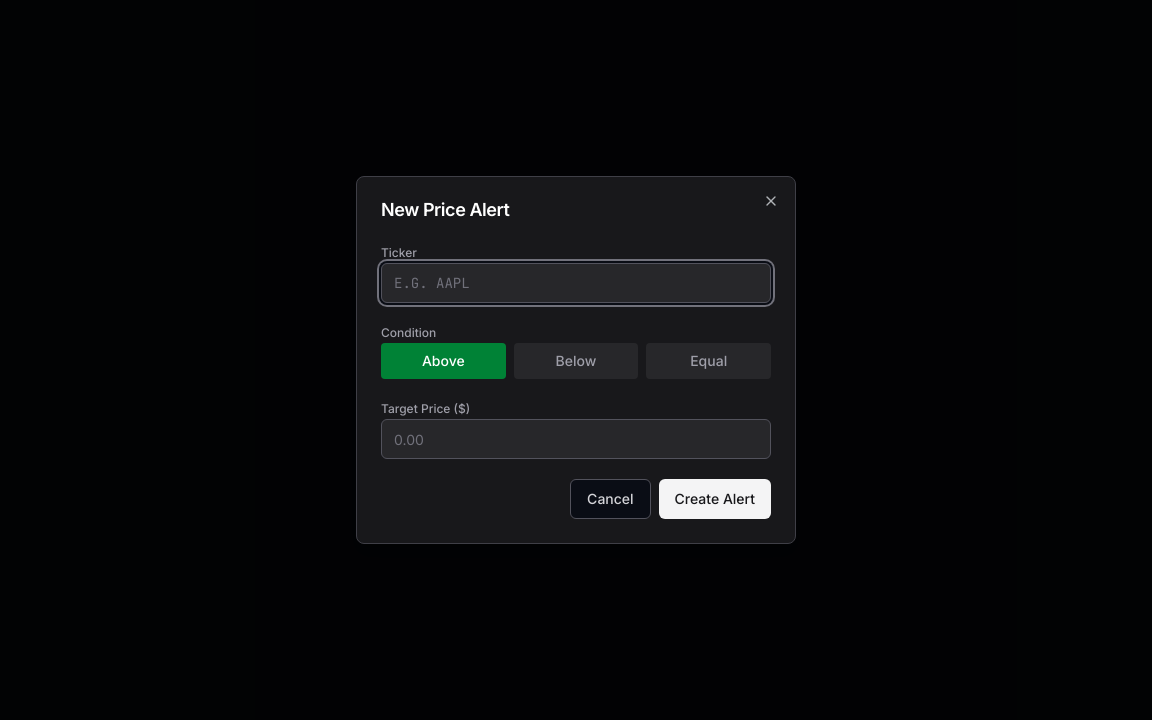
it: AlertCreateDialog › shows API error message on failure
In the field with placeholder "e.g. AAPL": [576, 283] box [381,263,771,303], type "AAPL"
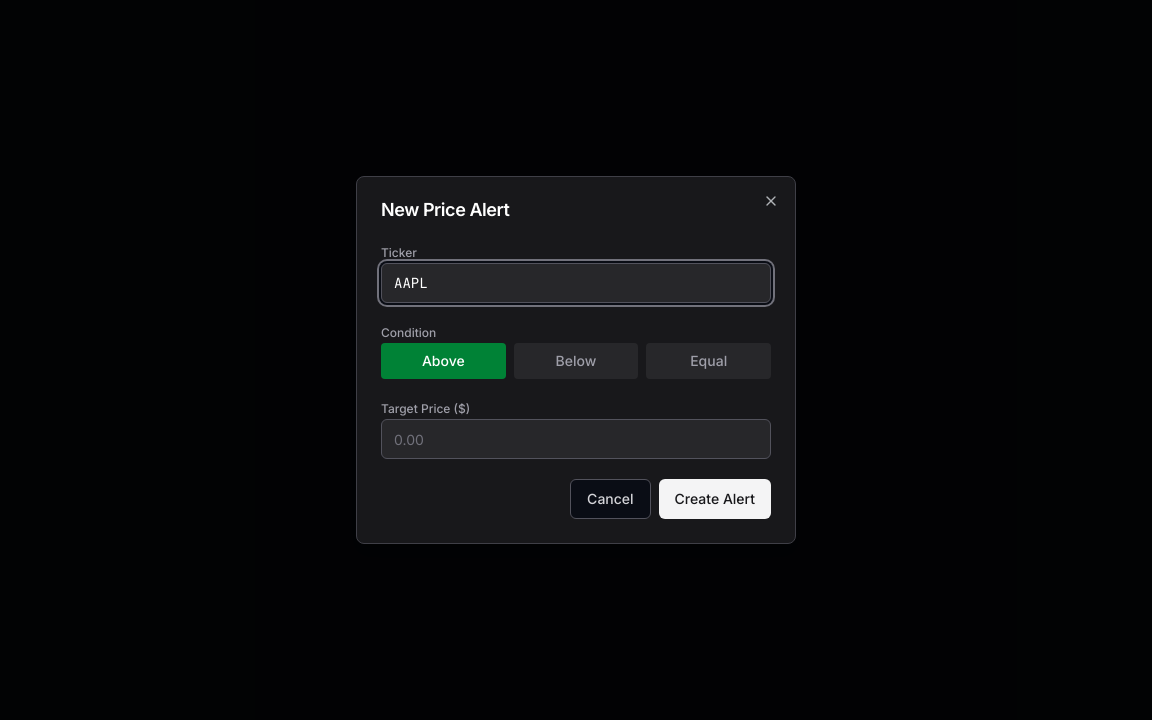
In the number field with placeholder "0.00": [576, 439] box [381,419,771,459], type "100"
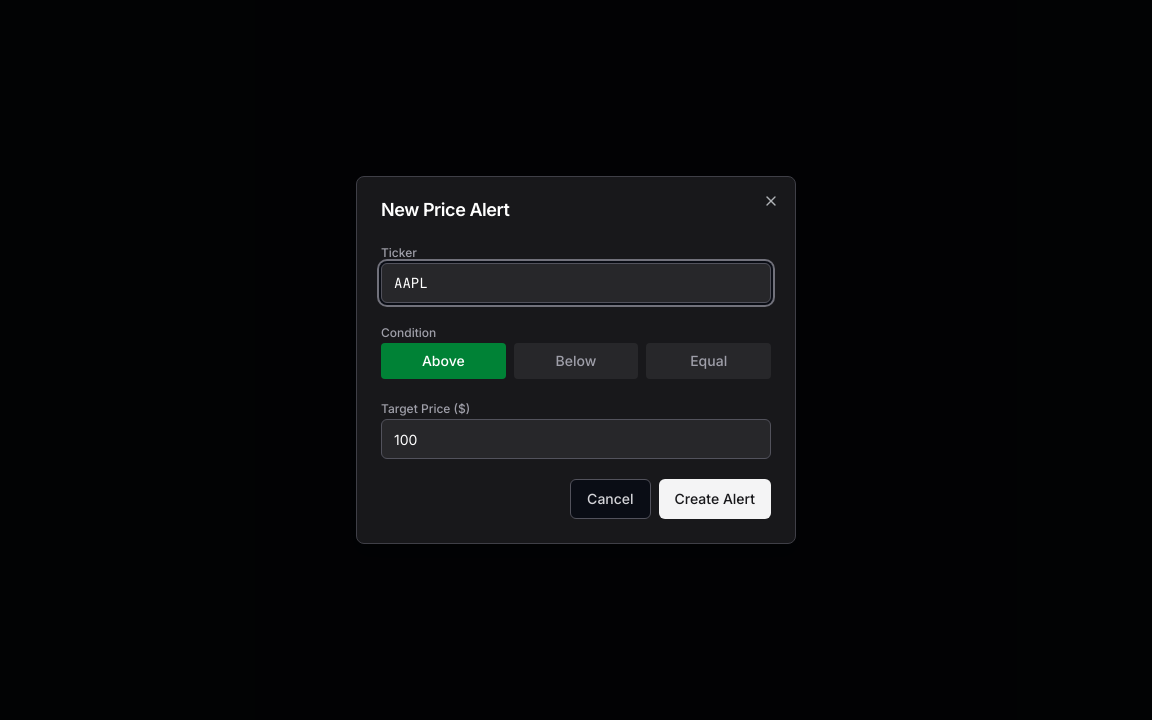
Click the button "Create Alert": [715, 499] box [659,479,771,519]
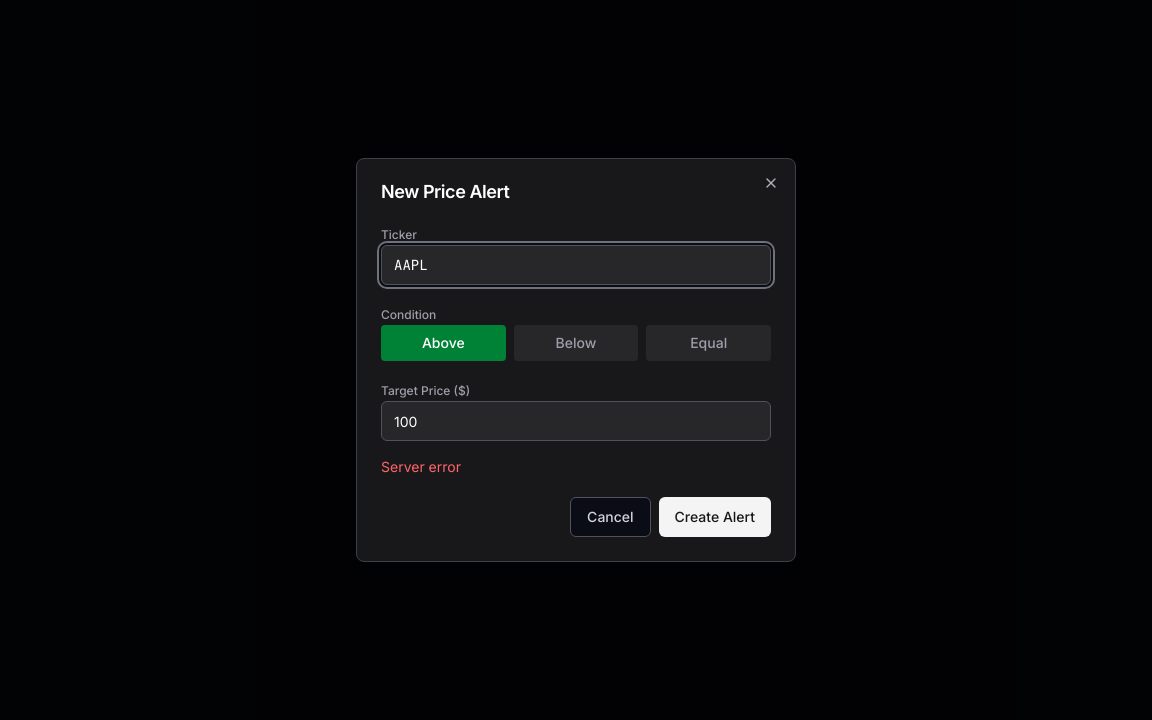
Expected: the text "Server error" is shown, [381,458,461,475]
